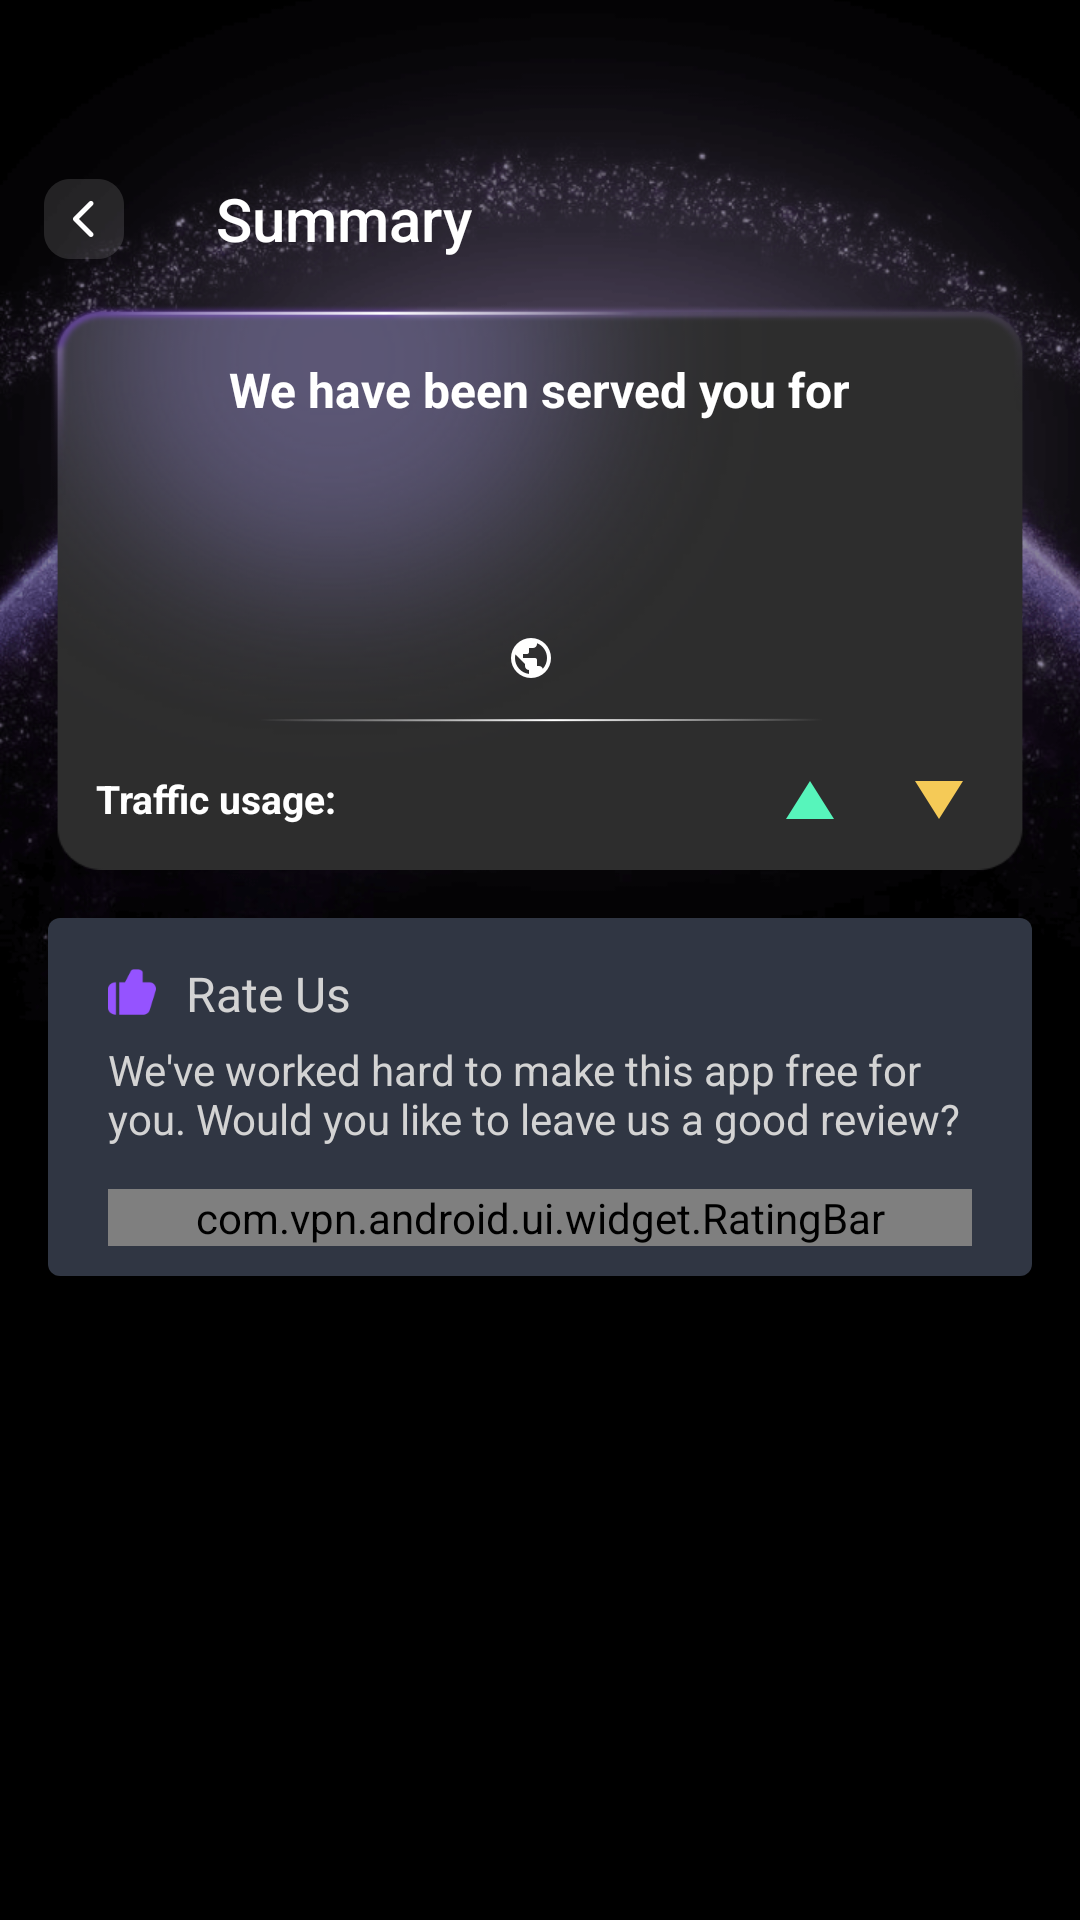

Named icons in this screenshot (1080*1920) and their bounding boxes, {"x1": x1, "y1": y1, "x2": x2, "y2": y2}:
download: {"x1": 915, "y1": 781, "x2": 963, "y2": 819}
rating: {"x1": 108, "y1": 969, "x2": 156, "y2": 1015}
region flag: {"x1": 511, "y1": 638, "x2": 551, "y2": 678}
upload: {"x1": 786, "y1": 781, "x2": 834, "y2": 819}
